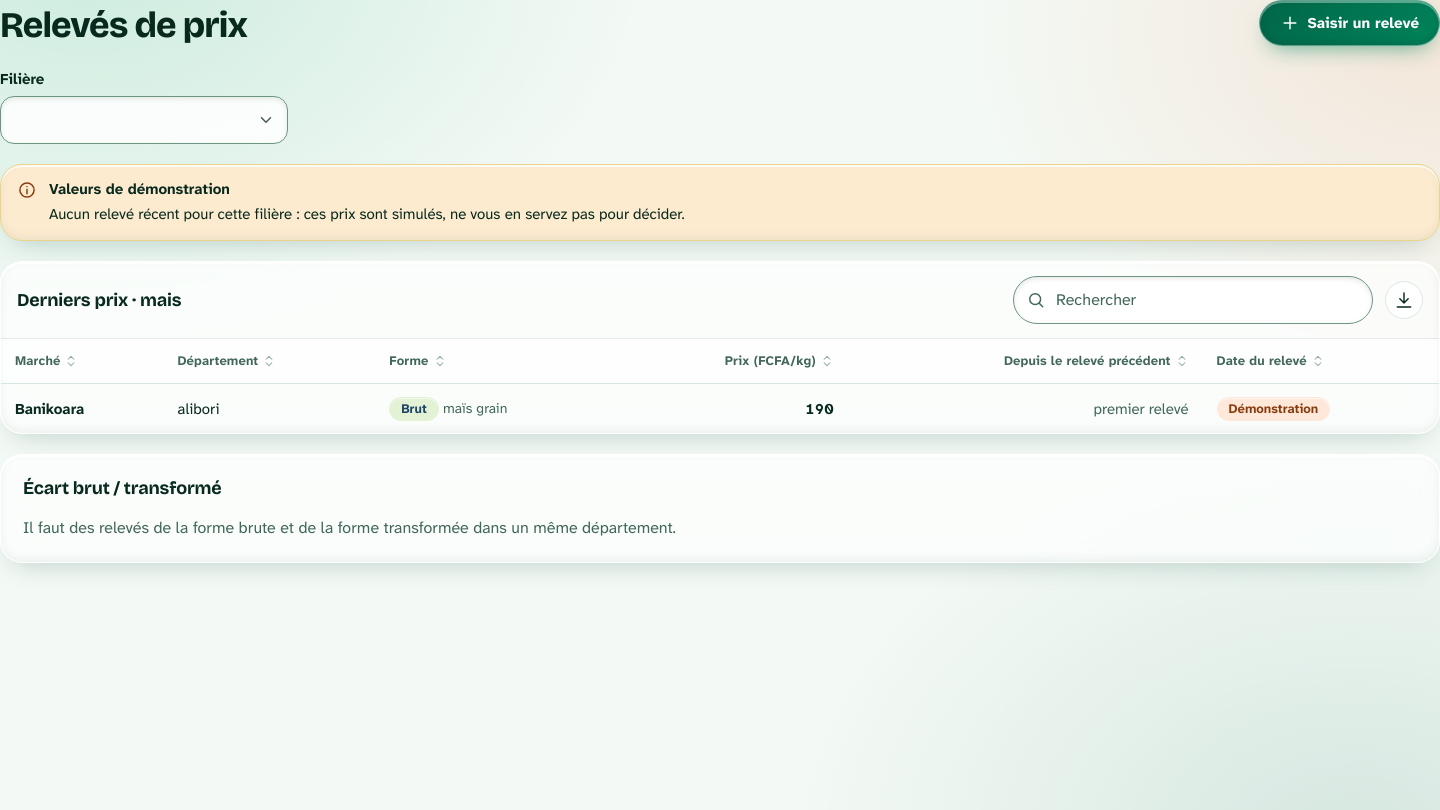
Test: Marchés : relevés, analyses, stocks, enquêtes, formations, vitrine › relevés de prix : un prix aberrant est refusé avant l’envoi, et la démonstration est étiquetée
The width and height of the screenshot is (1440, 810).
Check: the text "Valeurs de démonstration" is shown, box [49, 178, 230, 198]
Check: the text "Démonstration" is shown, box [1217, 397, 1330, 421]
Click the button "Saisir un relevé" at (1349, 23), box [1258, 0, 1439, 46]
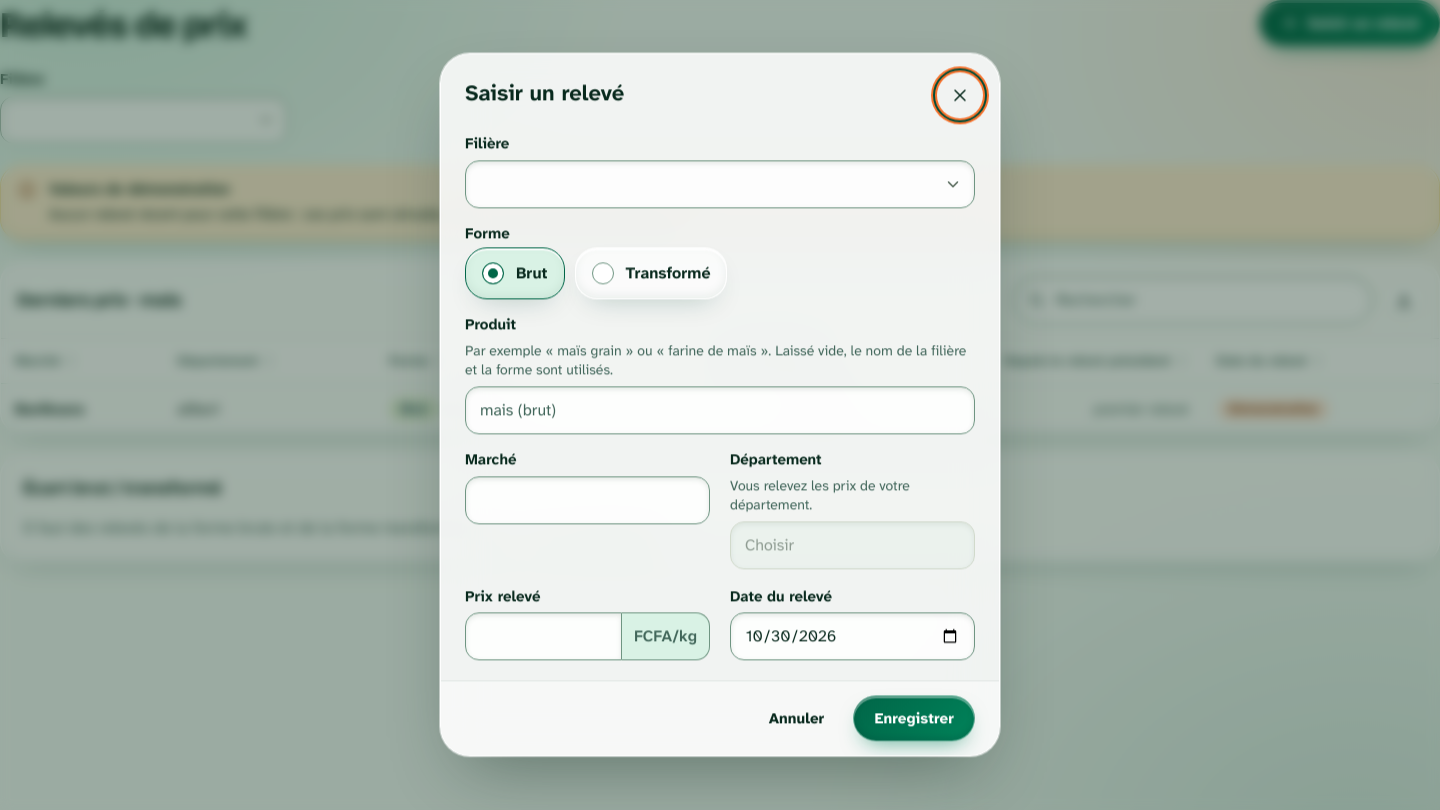
Type "Parakou" into the field labelled "Marché" at (588, 500), box [465, 476, 710, 524]
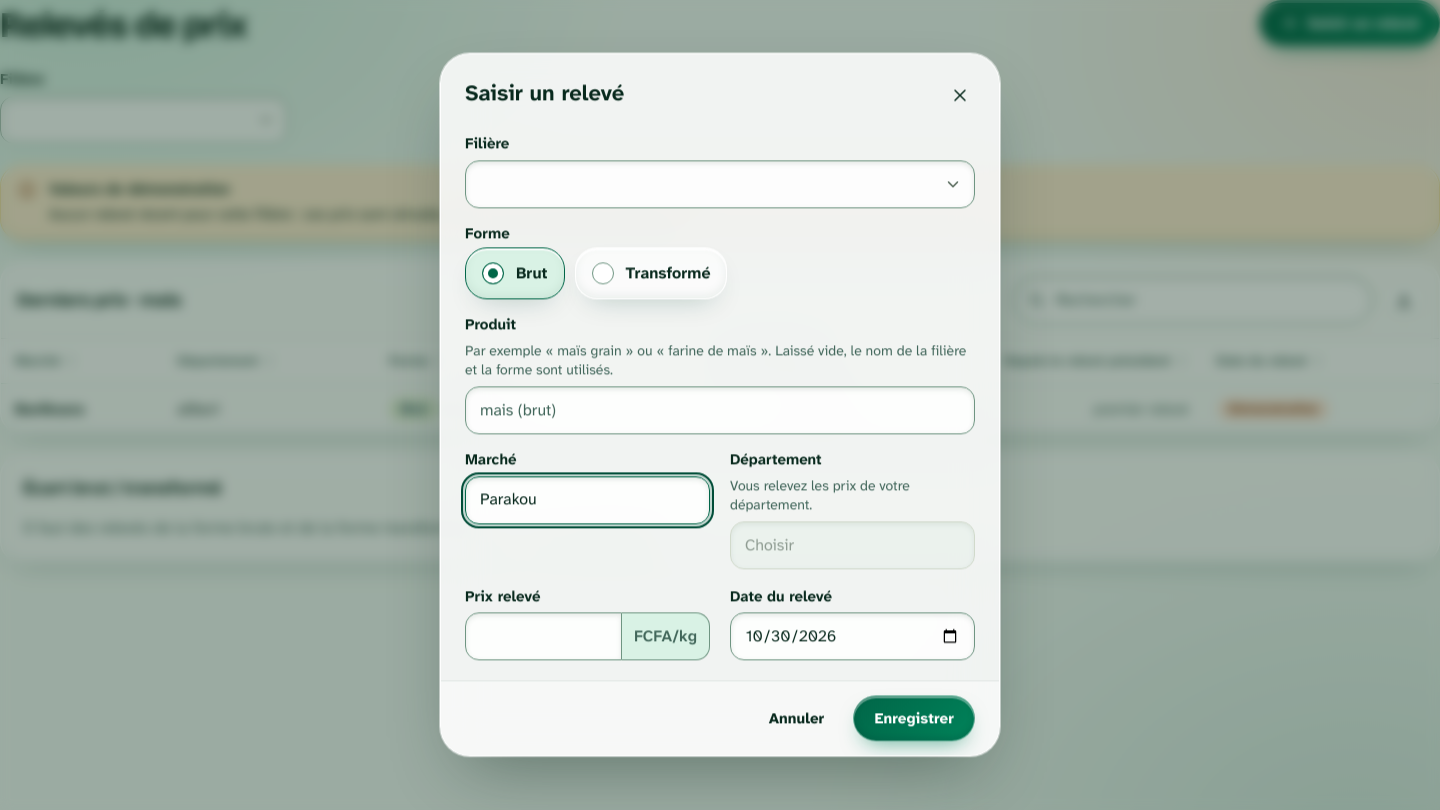
Type "25000" into the field labelled "Prix relevé" at (543, 637), box [465, 613, 622, 661]
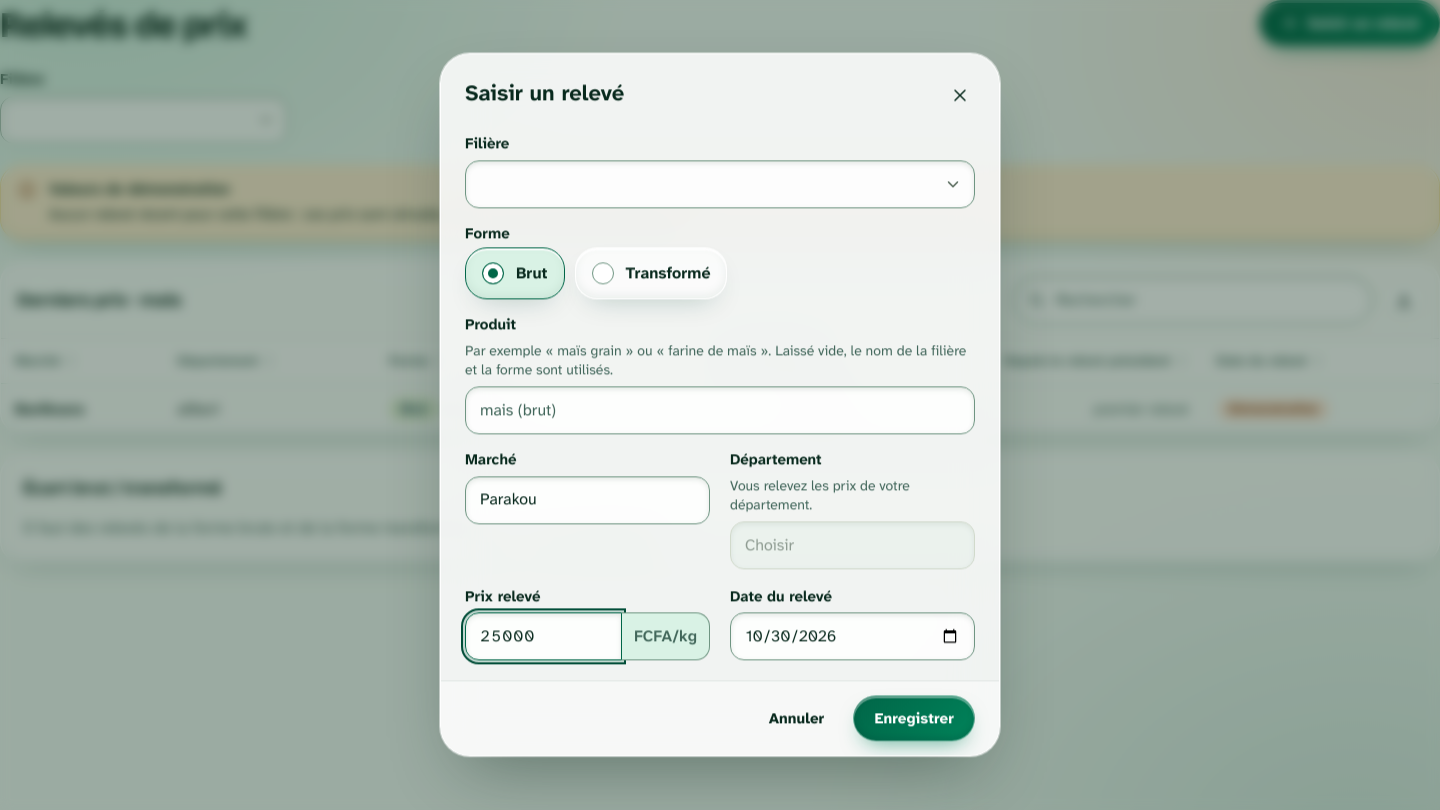
Click the button "Enregistrer" at (914, 719), box [853, 696, 975, 742]
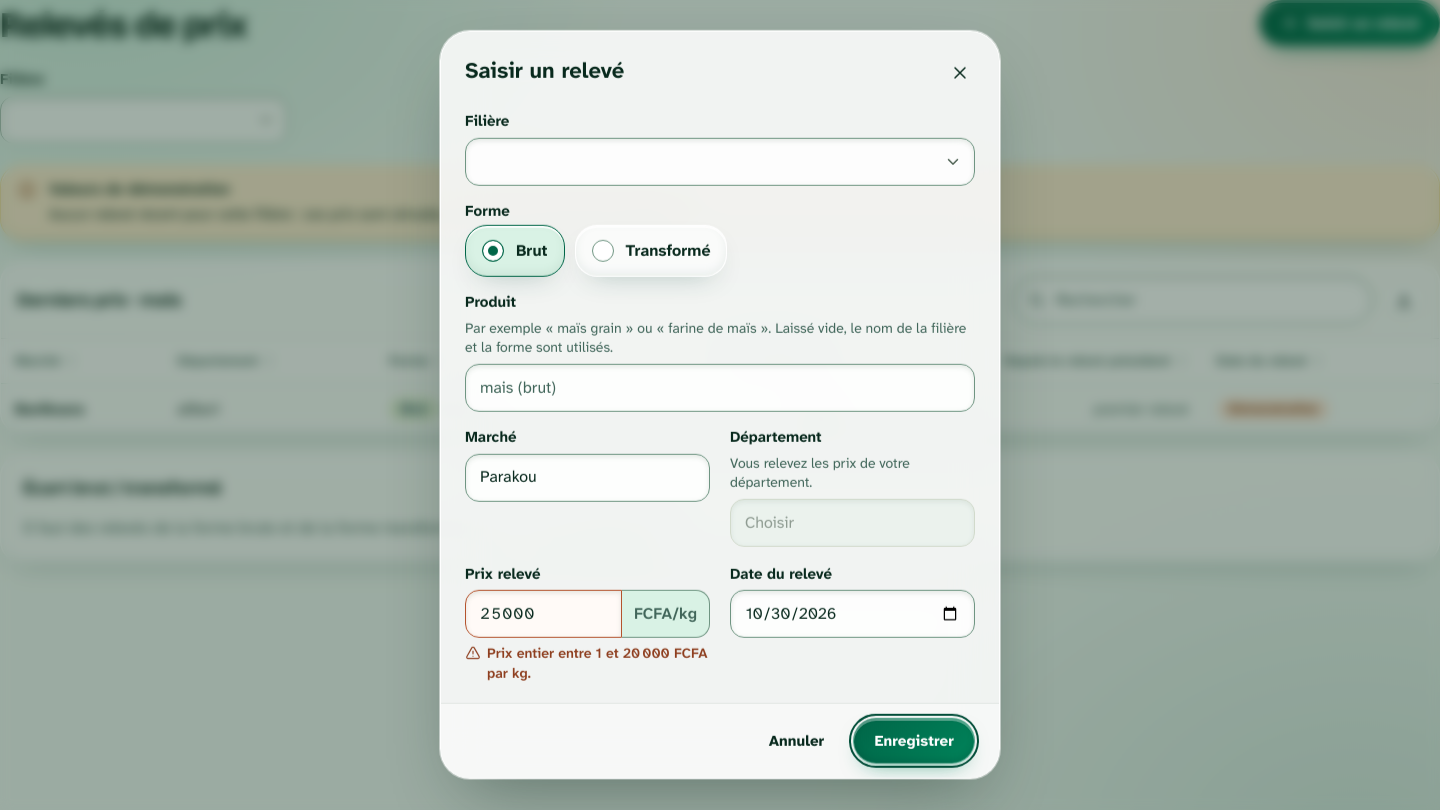
Check: the text "Prix entier entre 1 et 20 000 FCFA par kg." is shown, box [465, 644, 710, 683]
